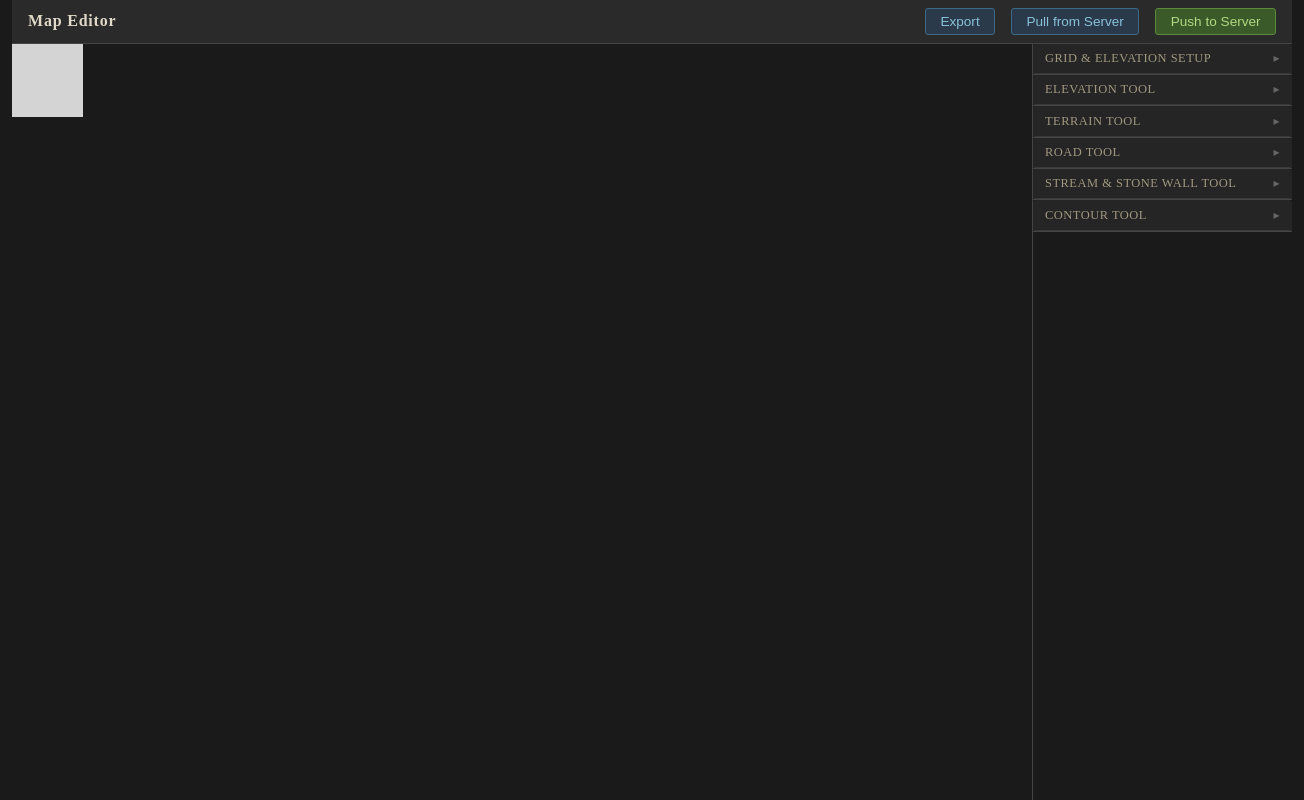
Test: MapEditorView › opening Elevation Tool accordion sets editorMode to elevation
Step 1. Click the button with class "accordion-header" showing "Elevation Tool ▸" → click(1162, 90), box 1033,75 -> 1292,105
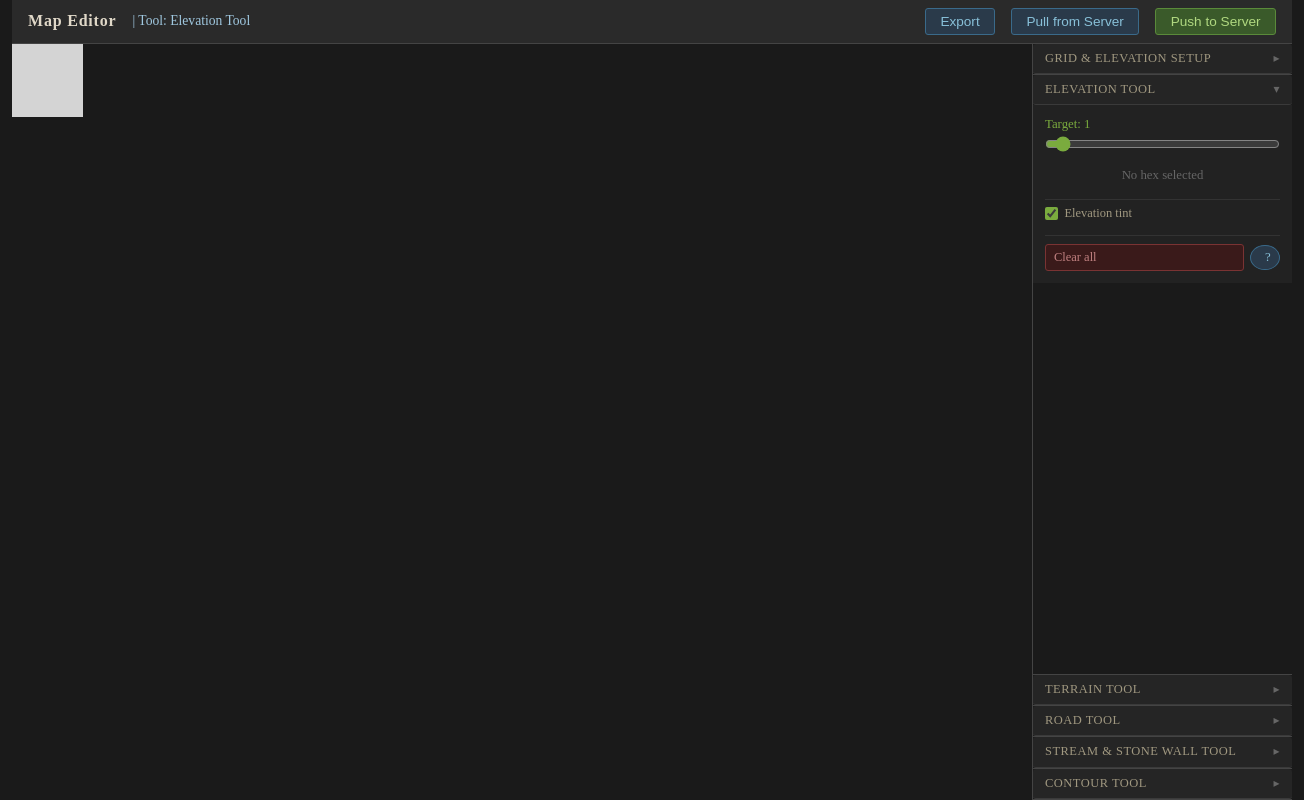
Expected: the text "Elevation tint" is shown, 1045,206 -> 1132,220
